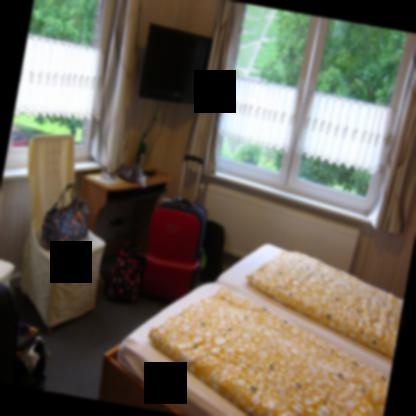backpack: (104, 241, 145, 303), (197, 219, 225, 283)
handbag: (36, 185, 90, 253)
suitcase: (141, 155, 208, 302), (0, 281, 19, 385)
